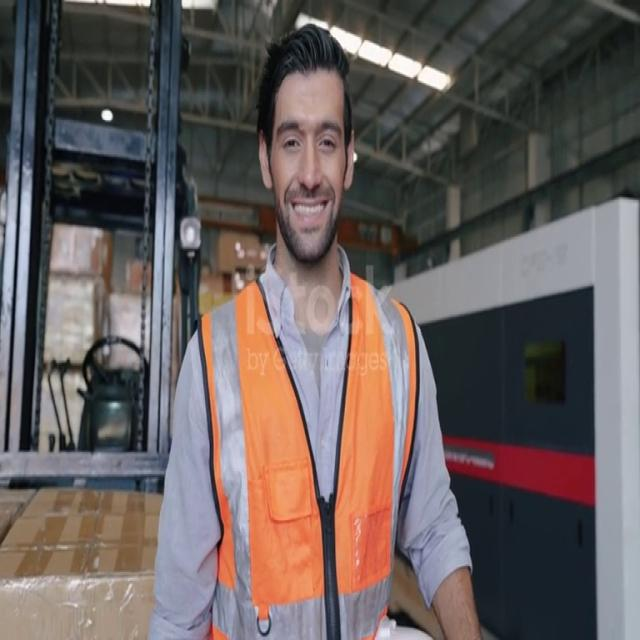sem_capacete: (232, 19, 386, 298)
